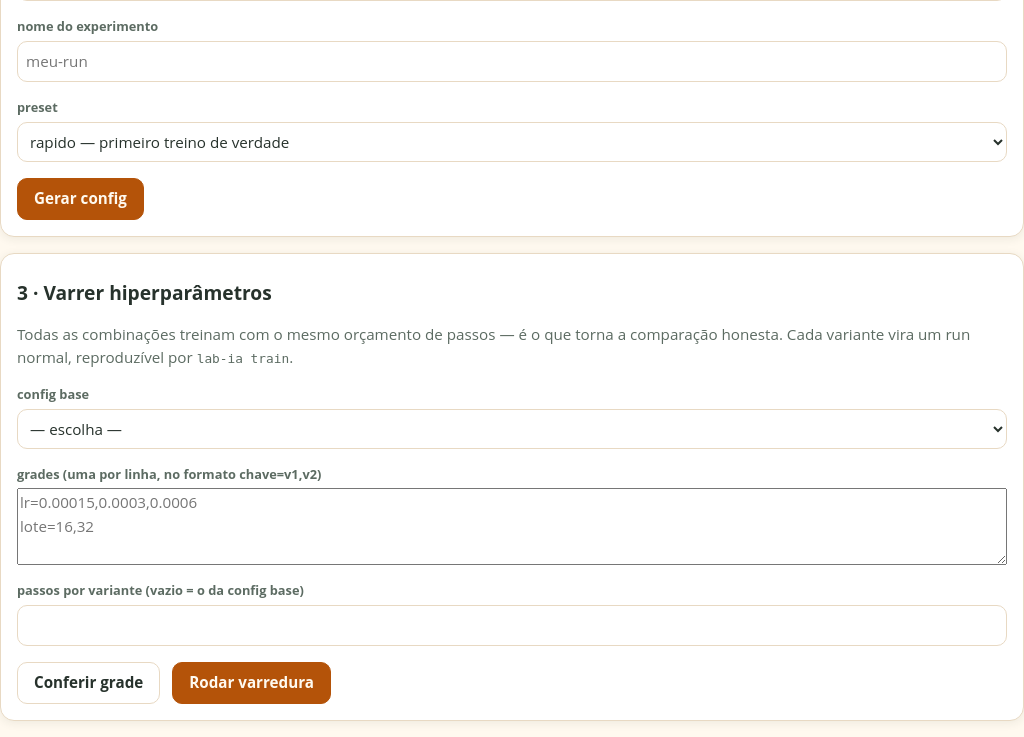
Test: Bancada — varredura › confere a grade antes de gastar GPU
The width and height of the screenshot is (1024, 737).
(page scrolled)
Select "livros-rapido.yaml" in the dropdown labelled "config base": (512, 429) [17,409,1007,449]
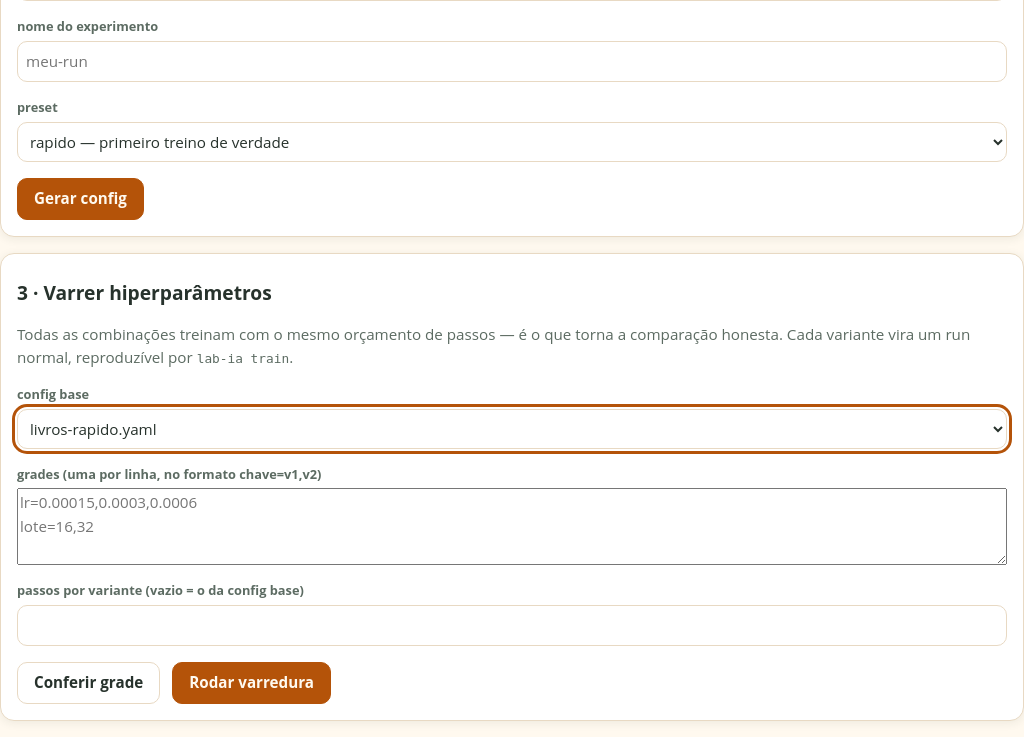
In the text box named "grades da varredura": (512, 527) [17,488,1007,565], type "lr=0.00015,0.0003"
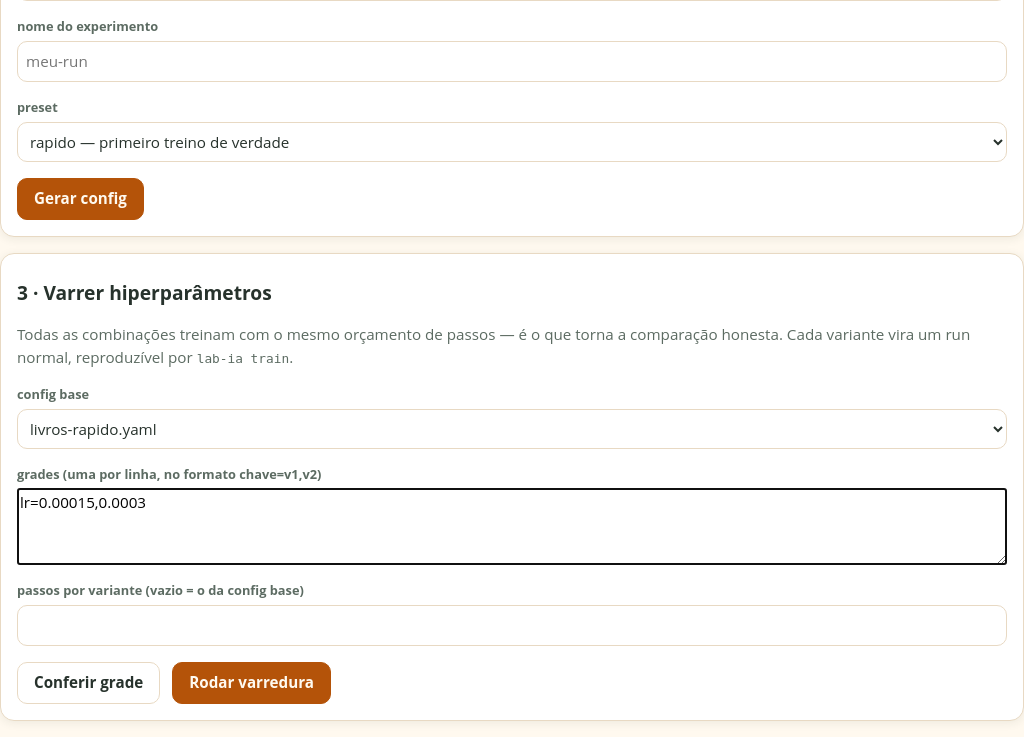
Click the button "Conferir grade": (89, 683) [17,662,160,704]
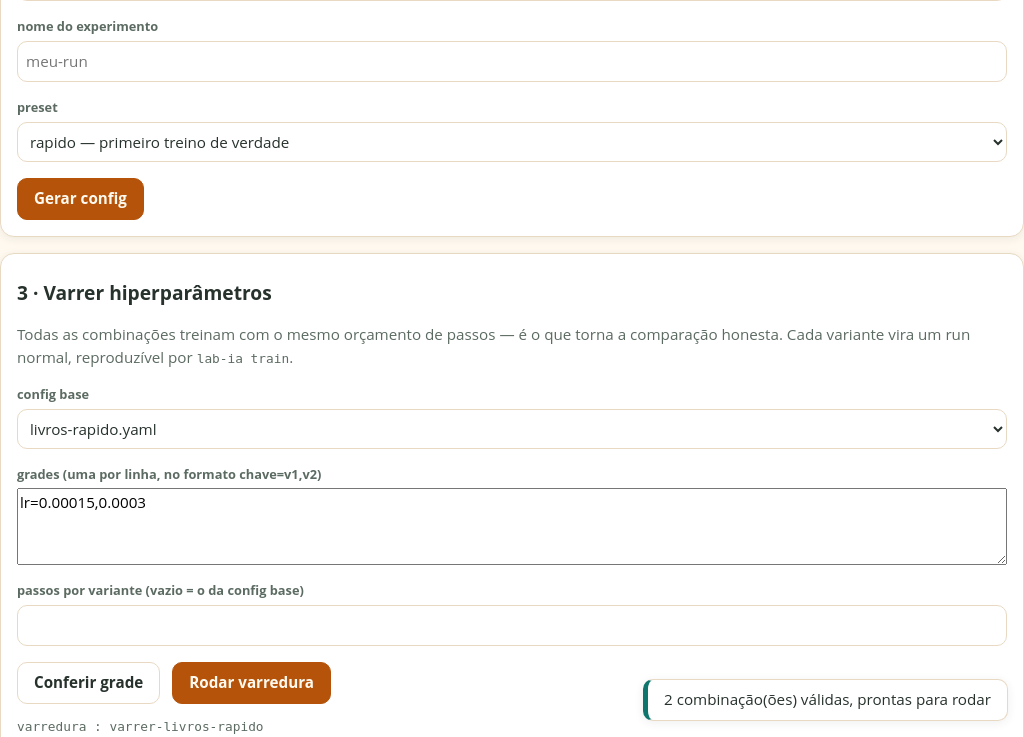
Expected: the message shows "2 combinação", [664,689,991,709]
